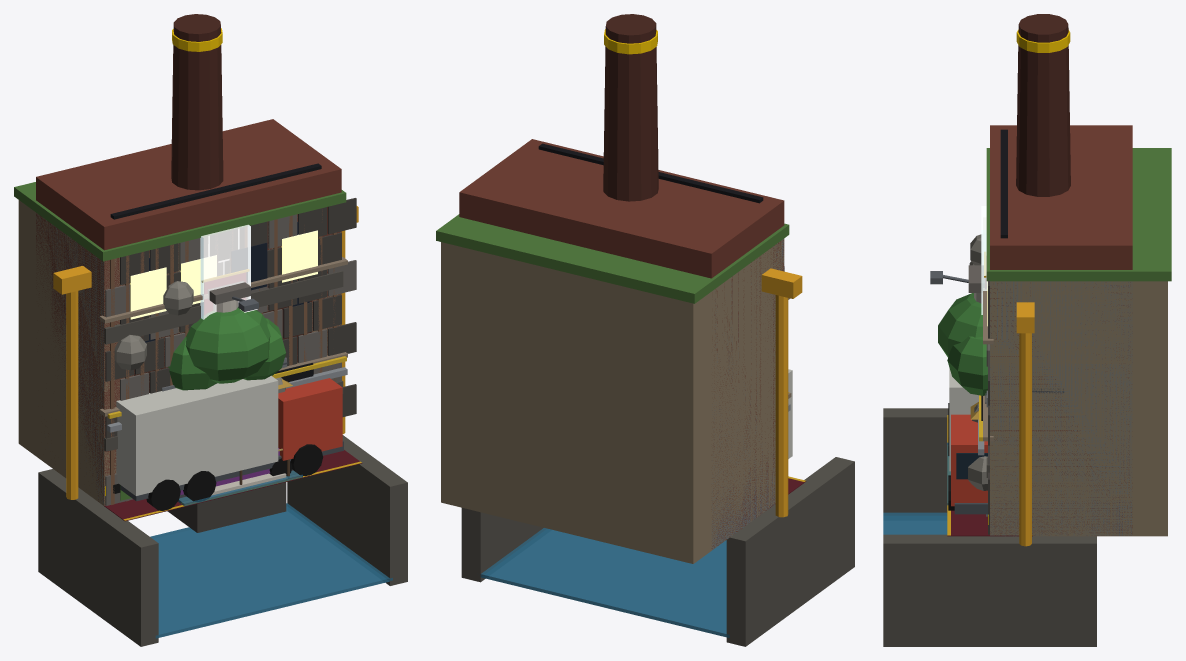
File: kit.glb
3 views of the same model, side by side, from view 1: azimuth 30°, elevation 25°; view 2: azimuth 150°, elevation 25°; view 3: azimuth 270°, elevation 25° (orthographic). The views are drawn at different scales.
Visible parts, largest first — view 1: Gorge_Mesh, SlumWallA_Mesh, Cliff_Mesh, Truck_Mesh, StoneWallA_Mesh, FactoryWallA_Mesh, Smokestack_Mesh, TreeA_Mesh, Waterfall_Mesh, Crane_Mesh, SpikePit_Mesh, Carpet_Mesh (+3 smaller); view 2: Cliff_Mesh, Gorge_Mesh, SlumWallA_Mesh, Smokestack_Mesh, Crane_Mesh, FactoryWallA_Mesh, Billboard_Mesh; view 3: Cliff_Mesh, Gorge_Mesh, SlumWallA_Mesh, FactoryWallA_Mesh, Smokestack_Mesh, Truck_Mesh, TreeA_Mesh, Crane_Mesh, Carpet_Mesh, Billboard_Mesh, Waterfall_Mesh, StoneWallA_Mesh (+1 smaller).
Part boxes in pixels (x1,y1,x2,y2): Gorge_Mesh: [38, 435, 407, 646]; SlumWallA_Mesh: [36, 119, 347, 505]; Cliff_Mesh: [14, 182, 346, 505]; Truck_Mesh: [116, 375, 343, 510]; StoneWallA_Mesh: [105, 198, 356, 505]; FactoryWallA_Mesh: [36, 209, 347, 505]; Smokestack_Mesh: [171, 14, 223, 190]; TreeA_Mesh: [168, 307, 285, 390]; Waterfall_Mesh: [149, 224, 302, 506]; Crane_Mesh: [53, 206, 358, 499]; SpikePit_Mesh: [167, 482, 286, 532]; Carpet_Mesh: [104, 450, 362, 521]; Cliff_Mesh: [436, 214, 789, 563]; Gorge_Mesh: [461, 457, 854, 646]; SlumWallA_Mesh: [459, 139, 791, 548]; Smokestack_Mesh: [603, 14, 658, 201]; Crane_Mesh: [761, 268, 802, 517]; FactoryWallA_Mesh: [711, 239, 790, 549]; Billboard_Mesh: [538, 143, 763, 203]; Cliff_Mesh: [968, 148, 1171, 536]; Gorge_Mesh: [883, 408, 1096, 646]; SlumWallA_Mesh: [981, 125, 1132, 535]; FactoryWallA_Mesh: [978, 281, 1132, 535]; Smokestack_Mesh: [1016, 14, 1070, 196]; Truck_Mesh: [948, 368, 987, 514]; TreeA_Mesh: [938, 293, 987, 395]; Crane_Mesh: [1016, 302, 1034, 546]; Carpet_Mesh: [947, 415, 1032, 536]; Billboard_Mesh: [1000, 129, 1007, 238]; Waterfall_Mesh: [947, 206, 987, 505]; StoneWallA_Mesh: [984, 252, 989, 534].
Bounding box in the file's own units: 10 × 17.2 × 8.1.
